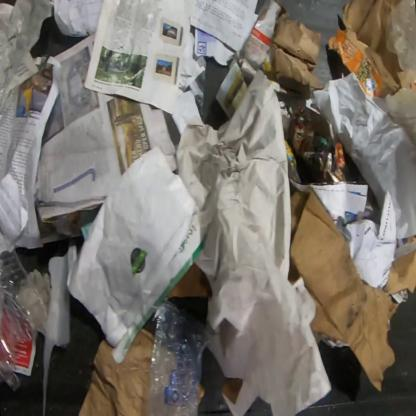cardboard: (287, 190, 400, 393), (327, 0, 416, 98), (76, 327, 155, 415), (273, 12, 323, 98), (166, 262, 212, 300), (384, 244, 415, 294)
rigid_plastic: (0, 230, 49, 393)
soft_plastic: (147, 300, 212, 416)
